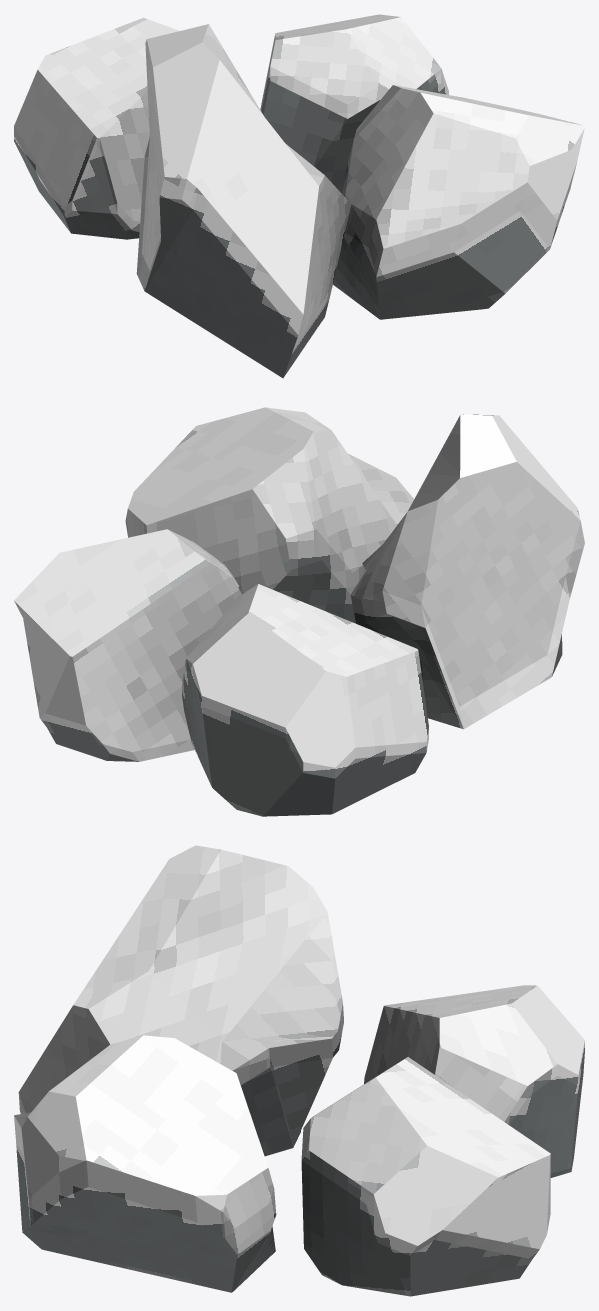
The model's file is rocks_snow.glb.
The picture shows the model from 3 angles, top to bottom: view 1: azimuth 30°, elevation 25°; view 2: azimuth 150°, elevation 25°; view 3: azimuth 270°, elevation 25°; orthographic projection. The views are drawn at different scales.
Visible parts, largest first — view 1: Cube.000; view 2: Cube.000; view 3: Cube.000.
Part boxes in pixels (<box>): Cube.000: <box>14,14,584,378</box>; Cube.000: <box>14,407,584,816</box>; Cube.000: <box>14,845,584,1296</box>.
Bounding box in the file's own units: 6.49 × 4.4 × 7.25.
Materials: 1 (1 with a texture image).
